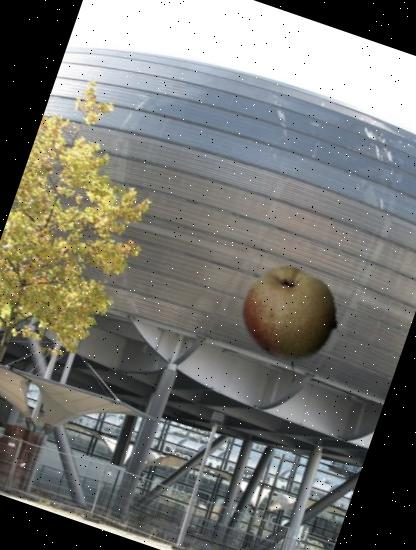Pear: (213, 246, 366, 400)
